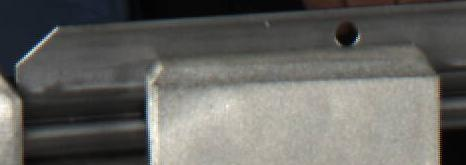cut: (15, 21, 134, 157)
holes: (333, 17, 360, 47)
